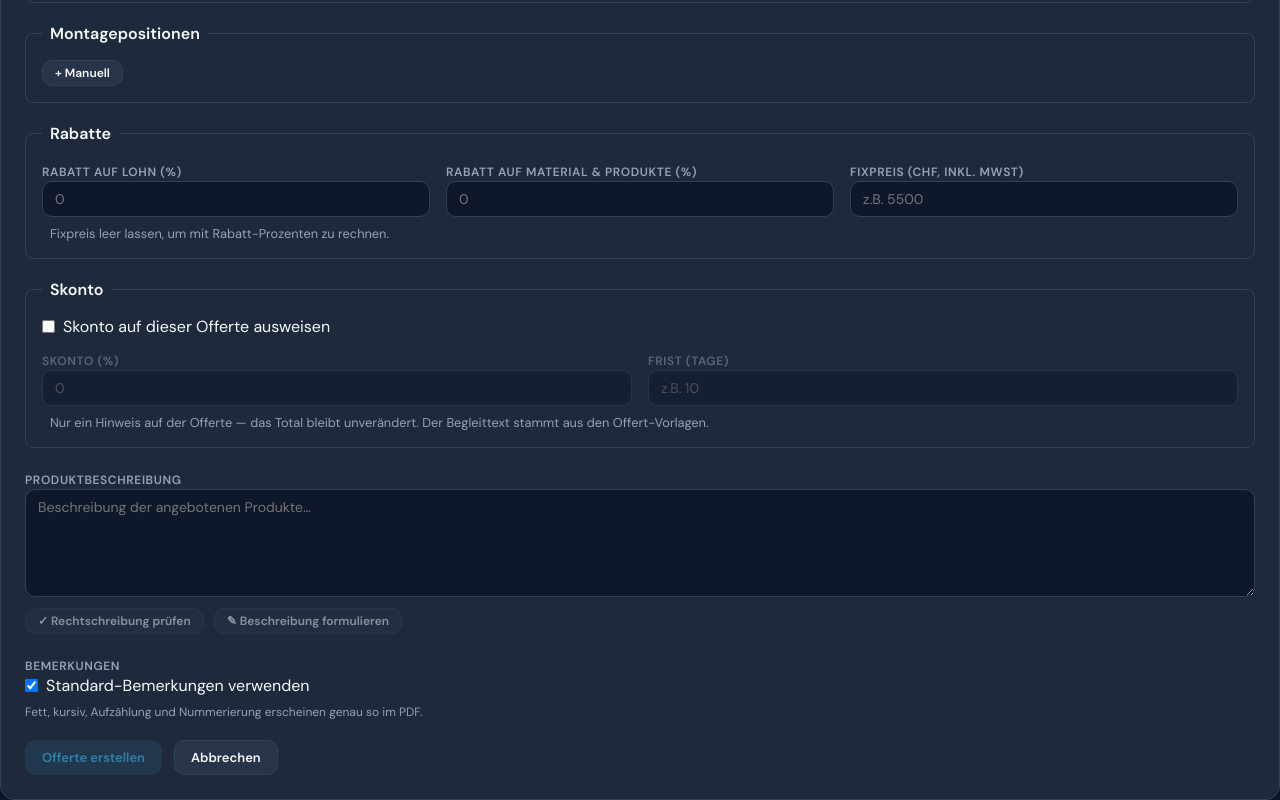
Scenario: QuoteCreateForm — Auto-Entwurf › bleibt bei «Zurück zum Formular» offen und behält die Eingaben
The image size is (1280, 800).
(page scrolled)
Type "Dach neu" into the text box with placeholder "Beschreibung der angebotenen Produkte…".
click(640, 543); type("Dach neu")  # box top-left (25, 489), bottom-right (1255, 597)
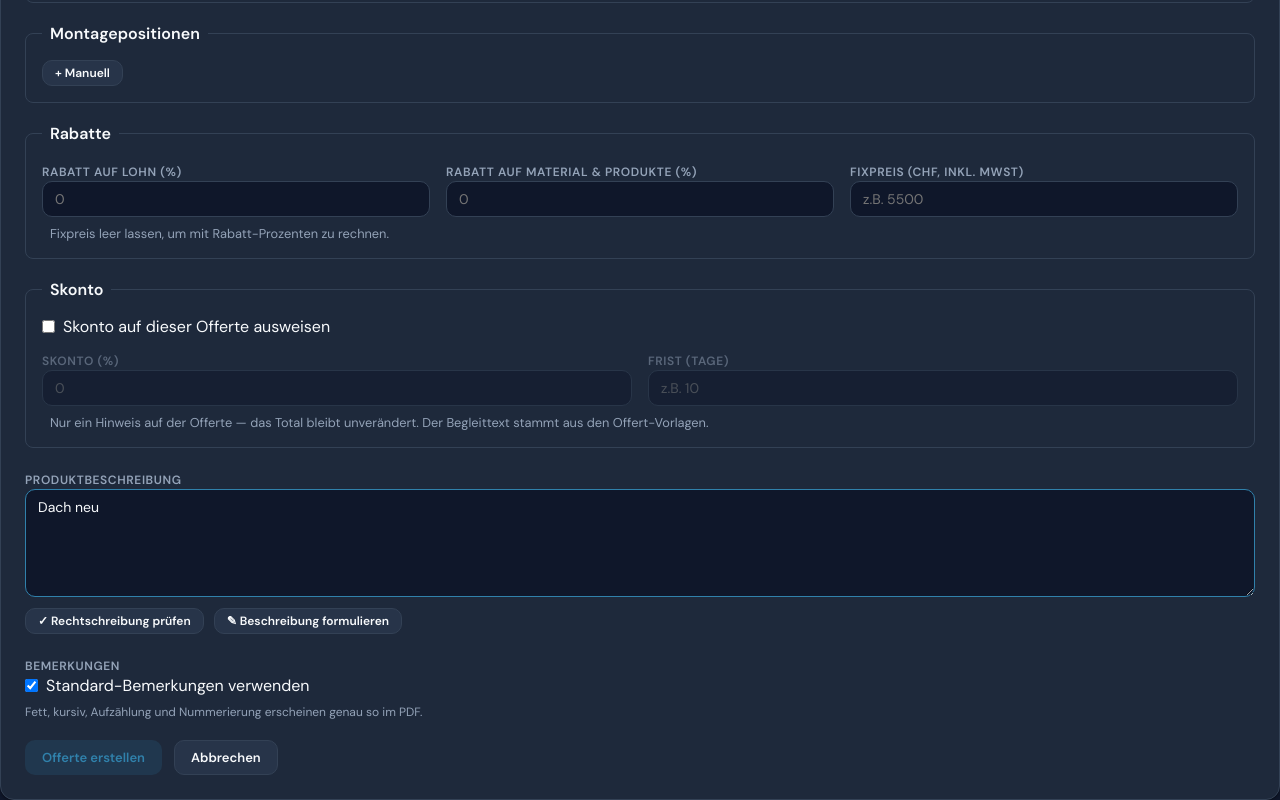
Click the button "Abbrechen".
click(226, 758)  # box top-left (174, 740), bottom-right (278, 775)
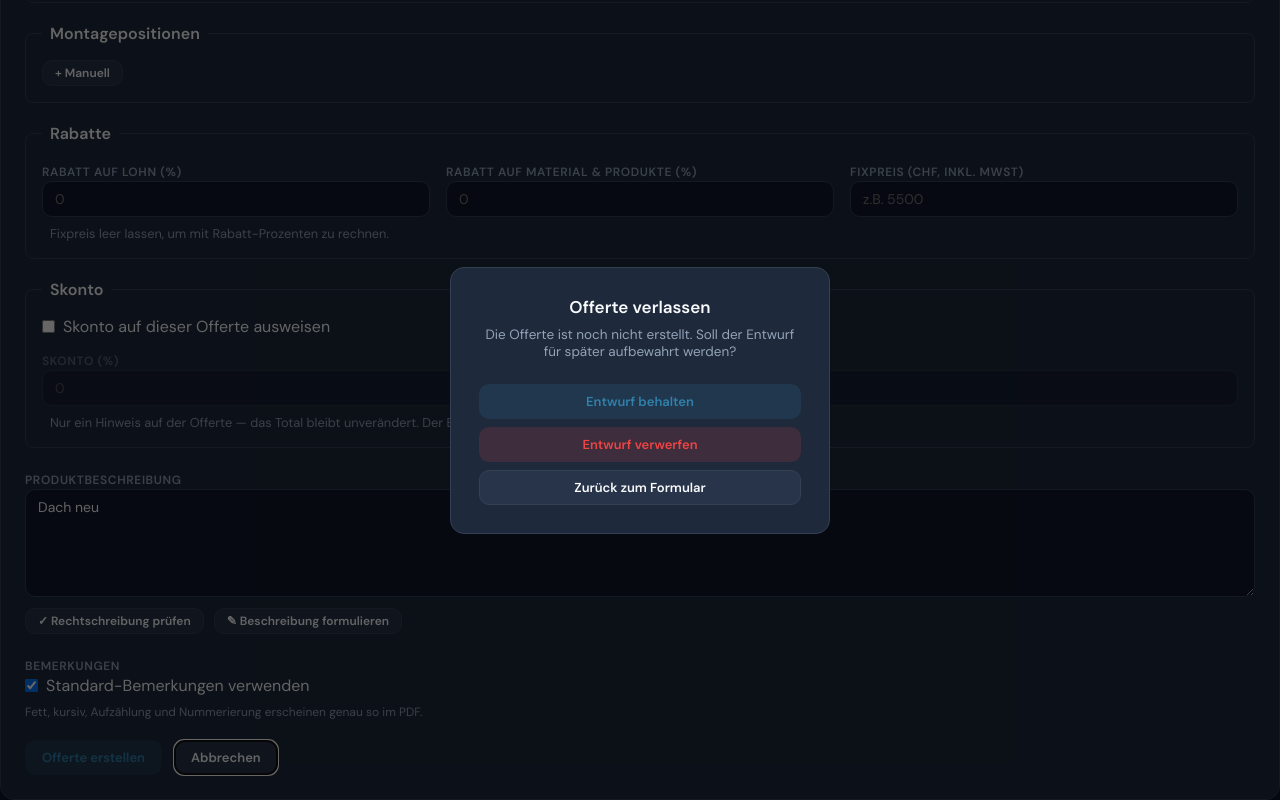
Click the button "Zurück zum Formular".
click(640, 487)  # box top-left (479, 470), bottom-right (801, 504)
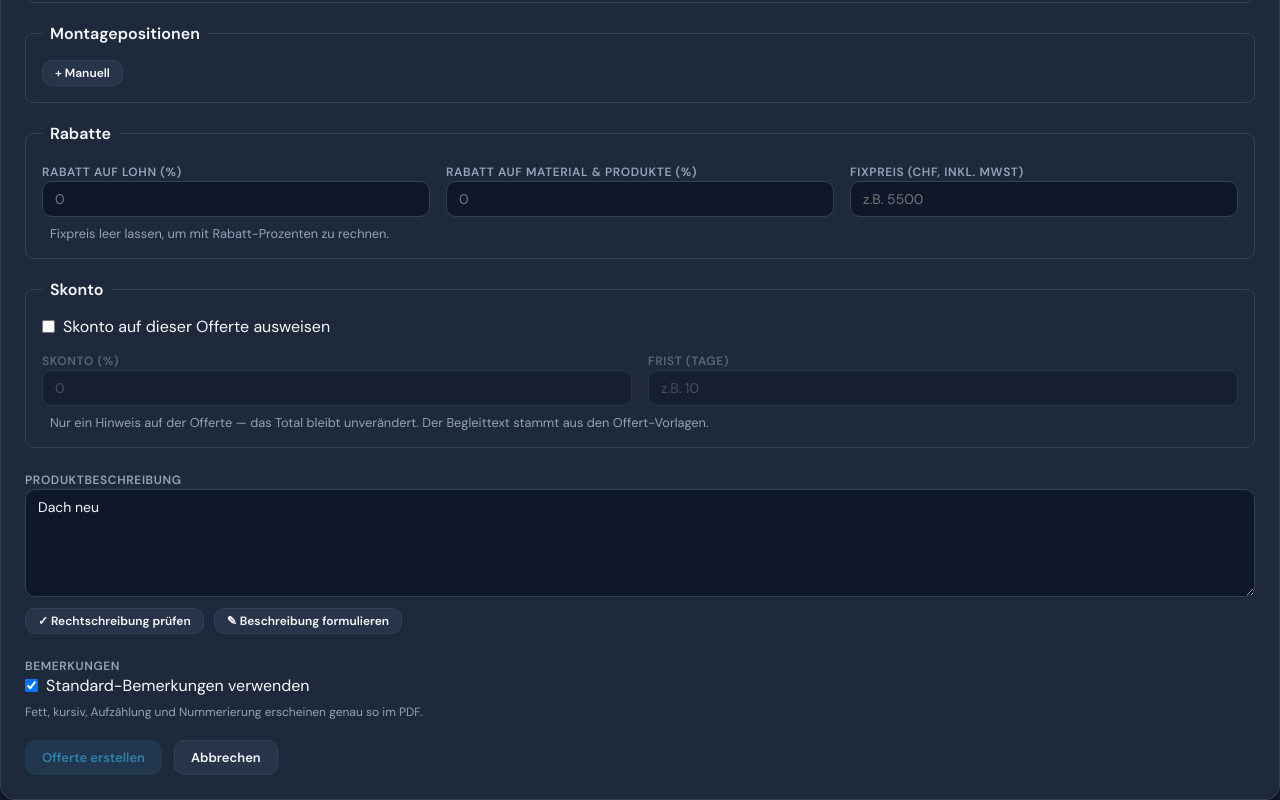
Now the text "Offerte verlassen" is gone
